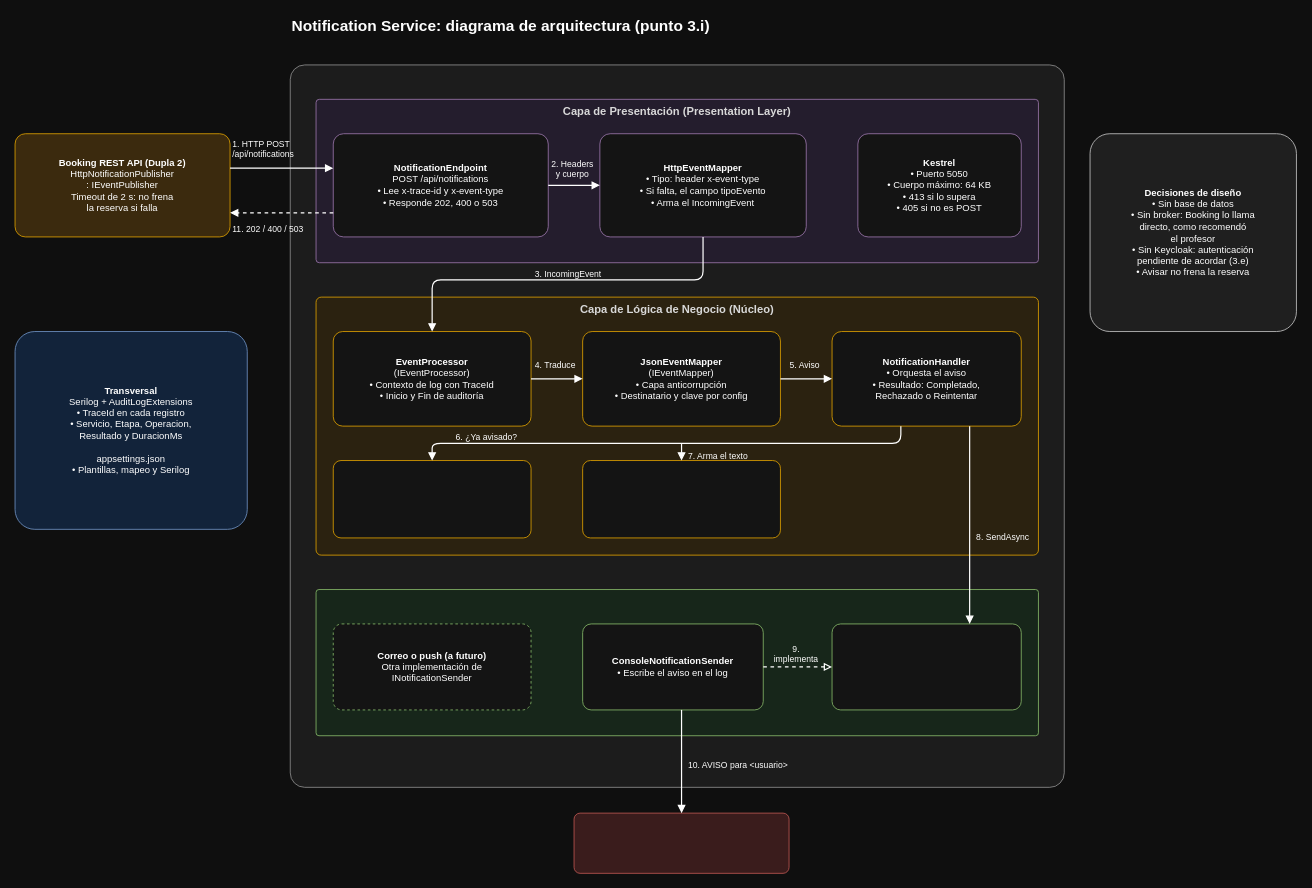
This 1312x888 diagram has some shape labels left out. The box of each missing label's shape, as (x1, y1, x2, y2) in pixels:
Capa de Salida (Adaptadores): (315, 589, 1038, 736)
IDeduplicationStore • En memoria, TryBegin atómico • Clave: tipo + ReservaId: (332, 460, 531, 538)
INotificationSender SendAsync(destinatario, texto) • Puerto de salida: (831, 623, 1021, 710)
Log del servicio (Serilog) AVISO para <usuario>: <texto>: (573, 812, 789, 873)
Notification Service (Dupla 4) - .NET 10 - Puerto 5050 (HTTP): (289, 64, 1064, 787)
TemplateRenderer • Plantilla por tipo de evento • Sin plantilla: Rechazado: (582, 460, 780, 538)
